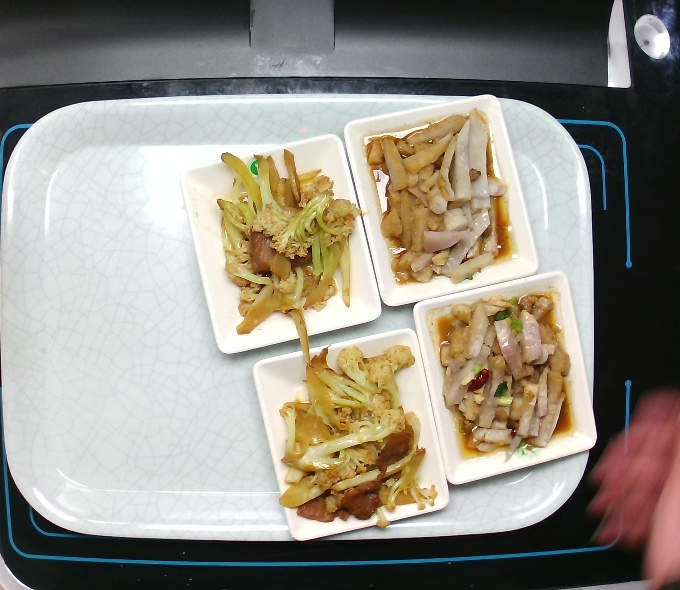wcq-QiuCaiChaoRou: (214, 145, 369, 363), (276, 340, 438, 532)
wcq-YuTou: (363, 105, 517, 286), (434, 290, 576, 460)
